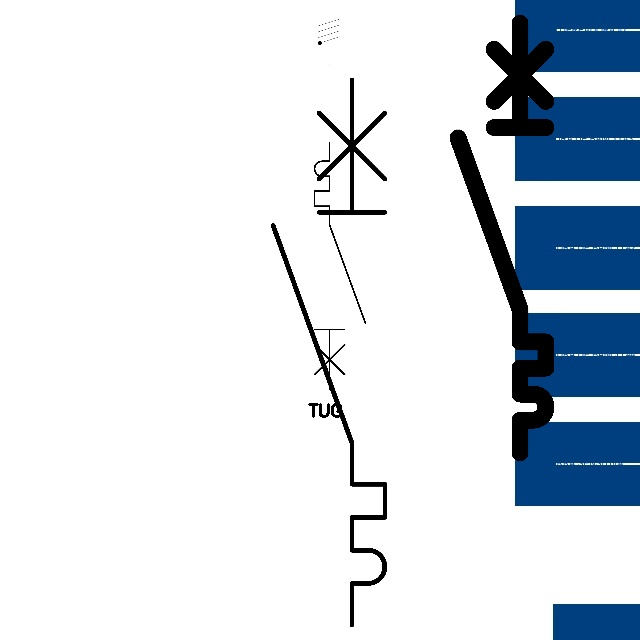interruptor_termomagnetico: (259, 65, 399, 638), (447, 12, 557, 464), (308, 136, 371, 396)
